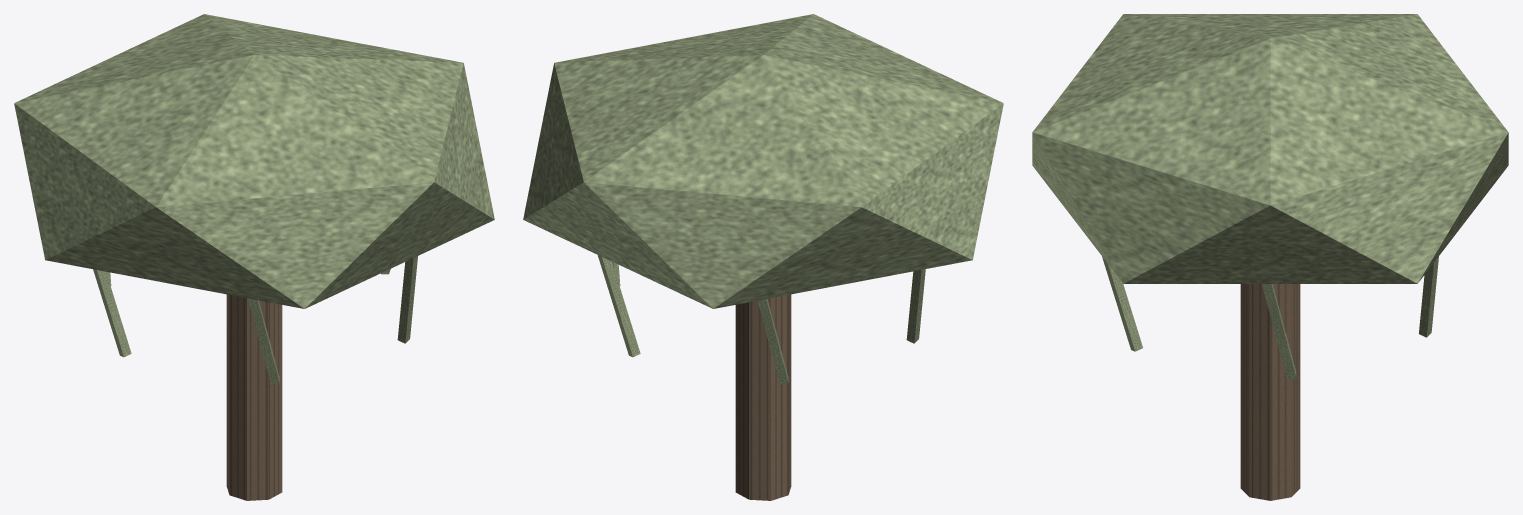
File: tree_weeping.glb
The picture shows the model from 3 angles, left to right: view 1: azimuth 30°, elevation 25°; view 2: azimuth 150°, elevation 25°; view 3: azimuth 270°, elevation 25°; orthographic projection. The views are drawn at different scales.
Parts seen in each view (by area): view 1: canopy_320, tree_trunk-col_319, drape_324, drape_326, drape_325; view 2: canopy_320, tree_trunk-col_319, drape_322, drape_323, drape_324; view 3: canopy_320, tree_trunk-col_319, drape_321, drape_326, drape_322.
Part boxes in pixels (x1=…): canopy_320: x1=14, y1=14, x2=494, y2=308; tree_trunk-col_319: x1=226, y1=294, x2=282, y2=500; drape_324: x1=93, y1=269, x2=131, y2=357; drape_326: x1=397, y1=256, x2=417, y2=343; drape_325: x1=248, y1=298, x2=279, y2=384; canopy_320: x1=523, y1=14, x2=1003, y2=308; tree_trunk-col_319: x1=735, y1=294, x2=791, y2=500; drape_322: x1=597, y1=255, x2=640, y2=357; drape_323: x1=757, y1=299, x2=788, y2=384; drape_324: x1=906, y1=269, x2=925, y2=343; canopy_320: x1=1032, y1=14, x2=1508, y2=283; tree_trunk-col_319: x1=1240, y1=284, x2=1300, y2=500; drape_321: x1=1262, y1=284, x2=1296, y2=379; drape_326: x1=1102, y1=256, x2=1142, y2=351; drape_322: x1=1419, y1=256, x2=1438, y2=337.
Bounding box in the file's own units: 2.67 × 2.65 × 2.54.
2 materials, 2 textured.
